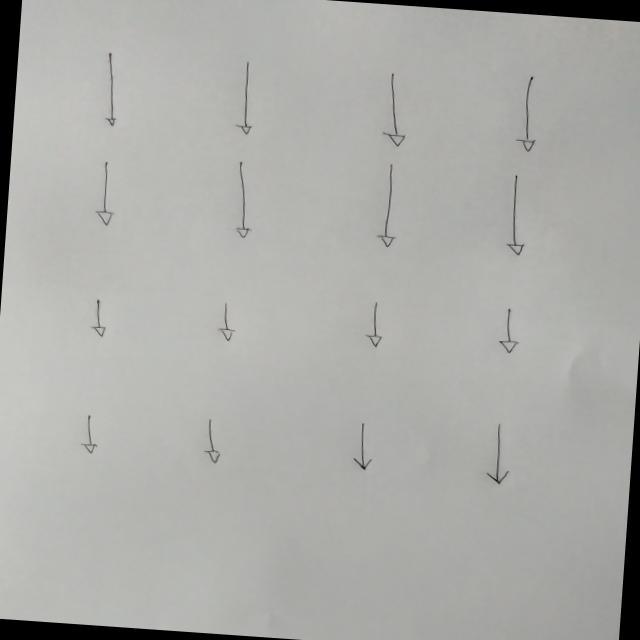arrow_line_down: (224, 154, 260, 240), (377, 68, 413, 150), (512, 72, 547, 154), (500, 168, 530, 258), (93, 47, 125, 131), (230, 57, 262, 137), (374, 160, 402, 250), (480, 417, 512, 487), (90, 159, 121, 230), (344, 418, 378, 474), (492, 304, 525, 356), (196, 414, 225, 468), (212, 299, 244, 346), (361, 298, 389, 351), (84, 294, 112, 342), (75, 409, 102, 456)
